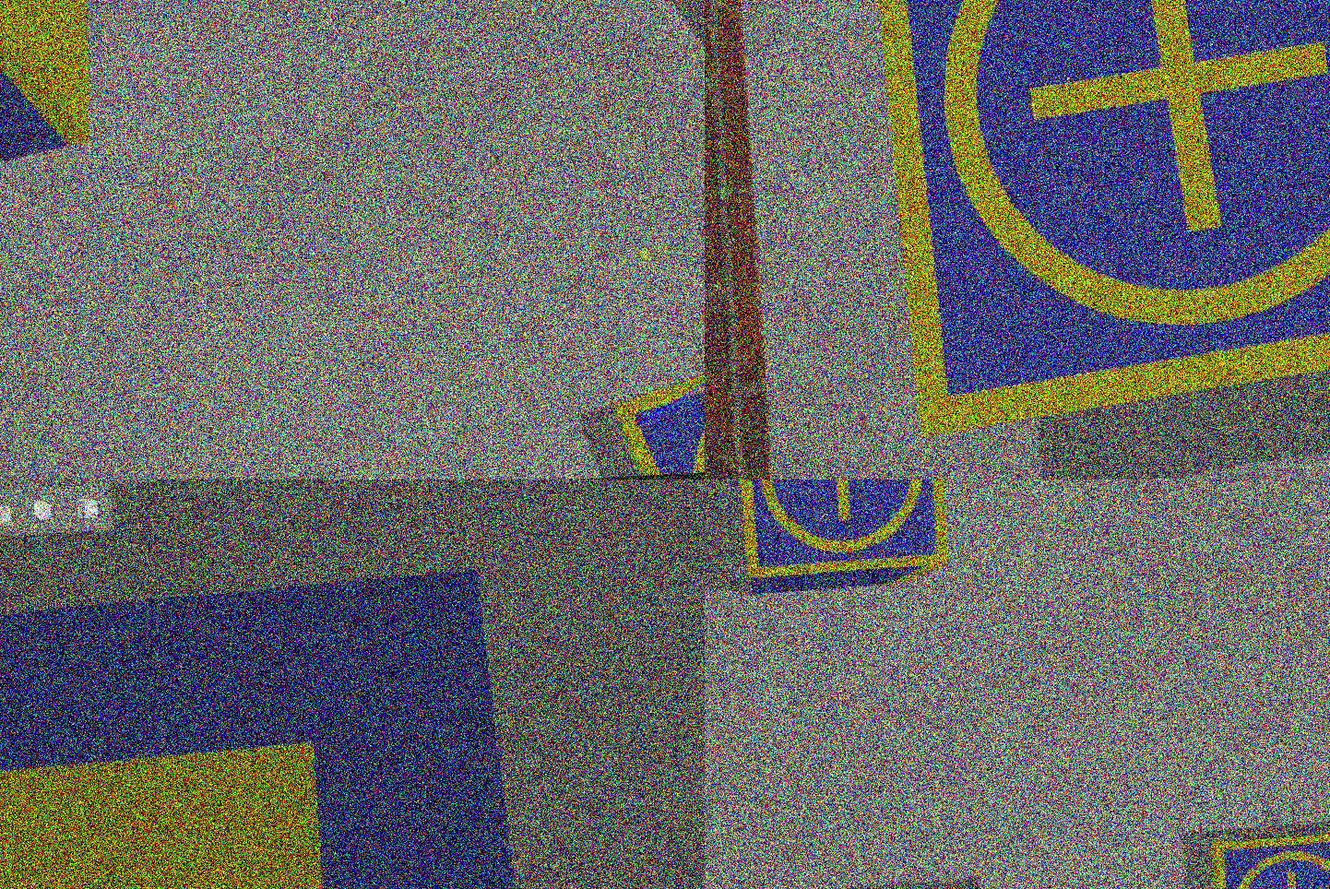large_base: (1, 564, 573, 889)
small_base: (860, 1, 1330, 444), (733, 480, 956, 582), (608, 321, 705, 477), (1210, 831, 1330, 889)
